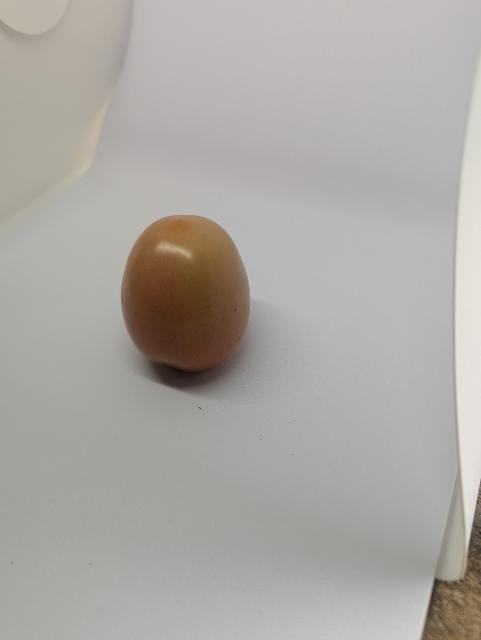turning: (113, 207, 261, 377)
